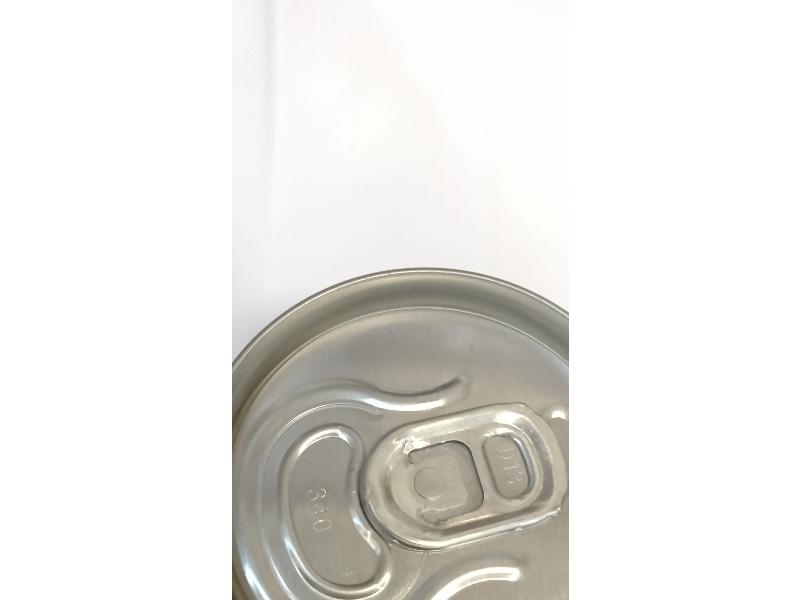can: (226, 262, 570, 600)
